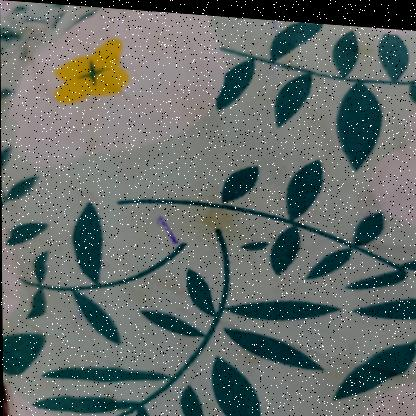spot: (198, 206, 242, 229), (158, 207, 180, 244)
